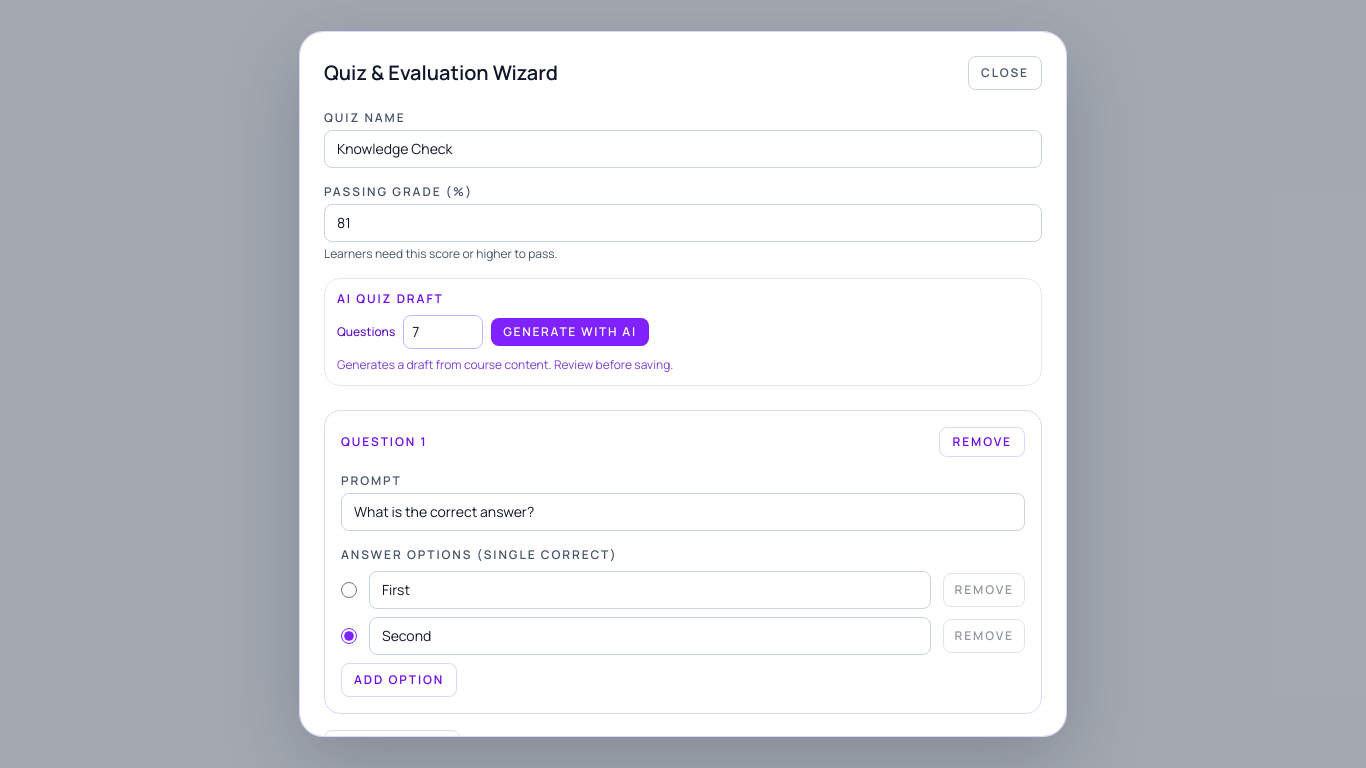
Scenario: QuizWizard › shows AI draft controls and generates quiz content
Expected: the text "AI Quiz Draft" is shown, [337, 290, 444, 307]
Replace the text in the number field showing "7" next to "Questions" with "14": (443, 332) [403, 315, 483, 349]
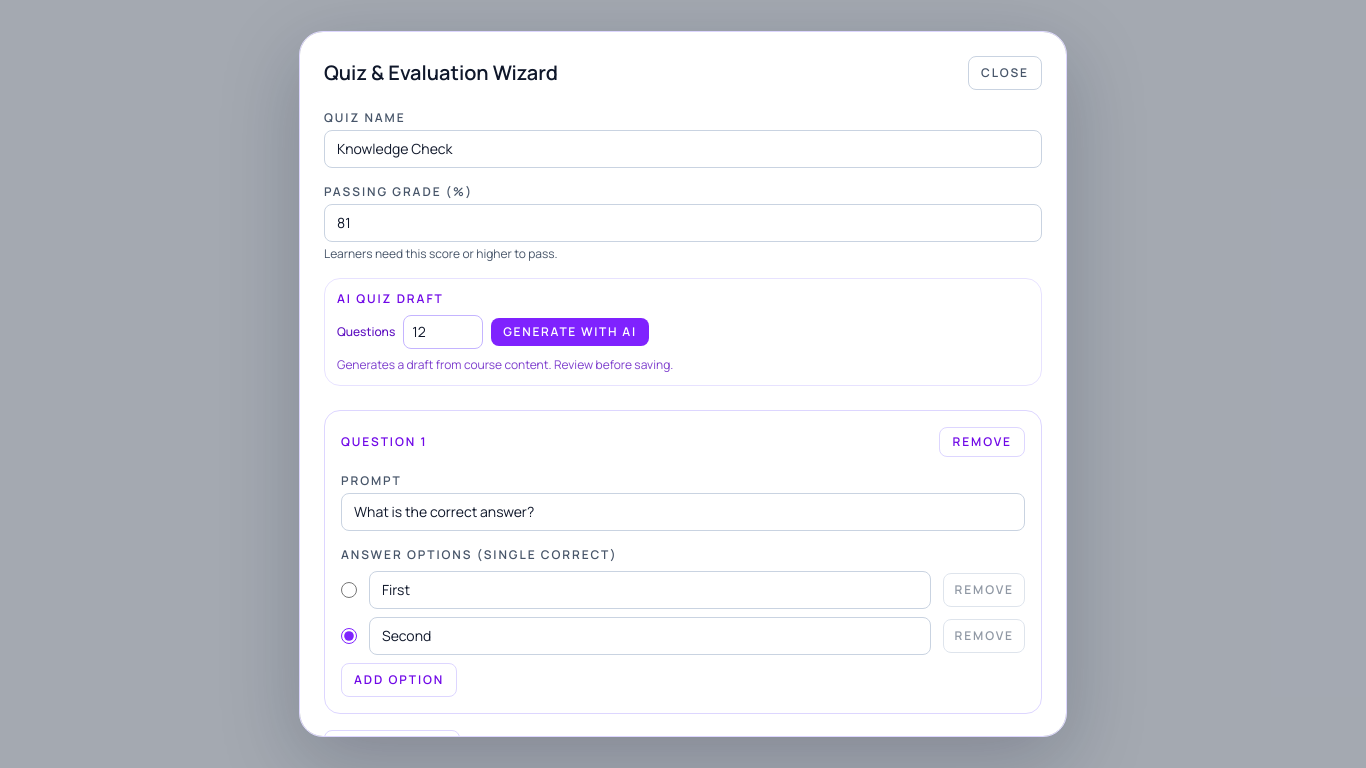
Click the button "Generate With AI": (570, 332) [491, 318, 649, 346]
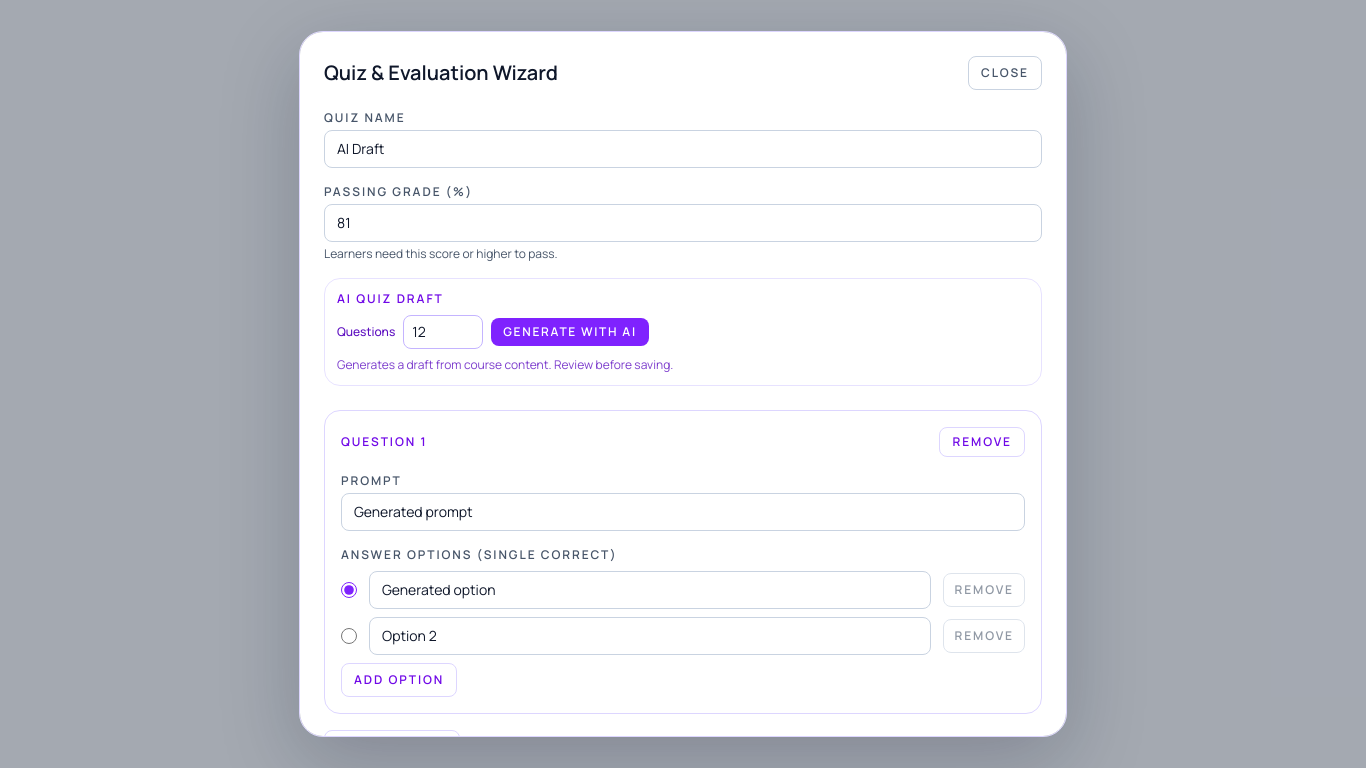
Expected: the number field showing "81" below "Passing Grade (%)" is shown, [324, 204, 1042, 242]
Result: the field showing "AI Draft" below "Quiz Name" is shown at [324, 130, 1042, 168]
Result: the 3rd field showing "Generated option" is shown at [369, 571, 932, 609]
